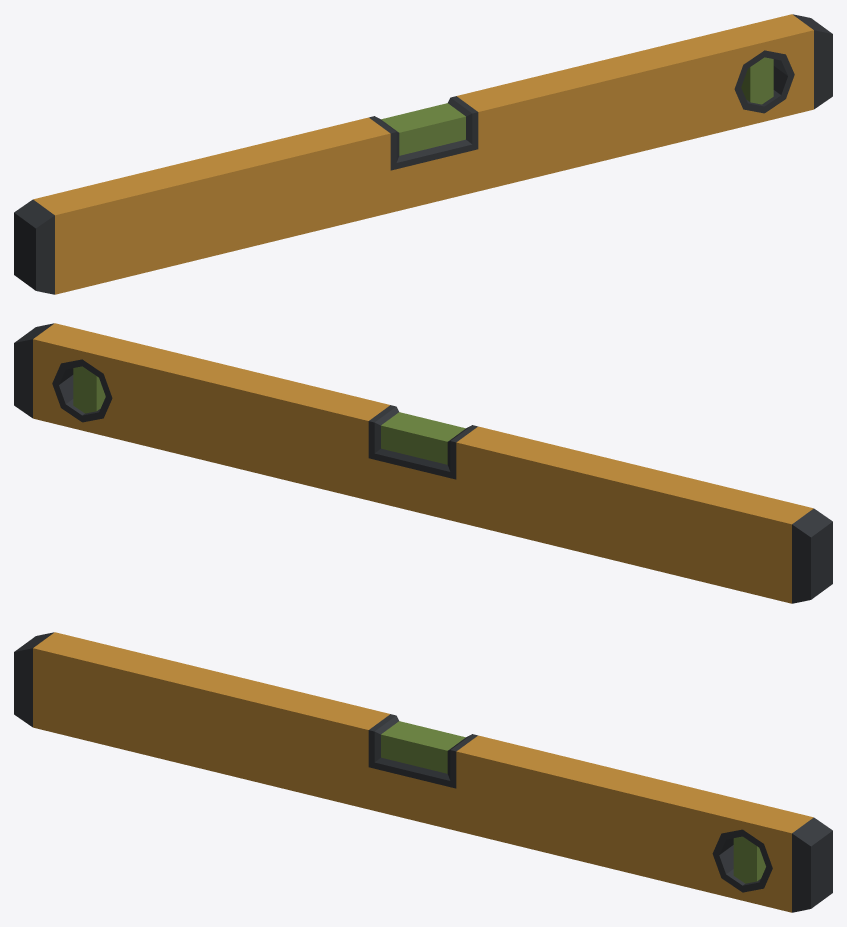
File: SM_Tool_Spirit_Level_01.fbx
3 views of the same model, one above another, from view 1: azimuth 30°, elevation 25°; view 2: azimuth 150°, elevation 25°; view 3: azimuth 330°, elevation 25° (orthographic).
Visible parts, largest first — view 1: SM_Tool_Spirit_Level_01; view 2: SM_Tool_Spirit_Level_01; view 3: SM_Tool_Spirit_Level_01.
Part boxes in pixels (left/top/right/bottom): SM_Tool_Spirit_Level_01: left=14, top=14, right=832, bottom=294; SM_Tool_Spirit_Level_01: left=14, top=323, right=832, bottom=603; SM_Tool_Spirit_Level_01: left=14, top=632, right=832, bottom=912.
Bounding box in the file's own units: 105 × 10 × 5.
